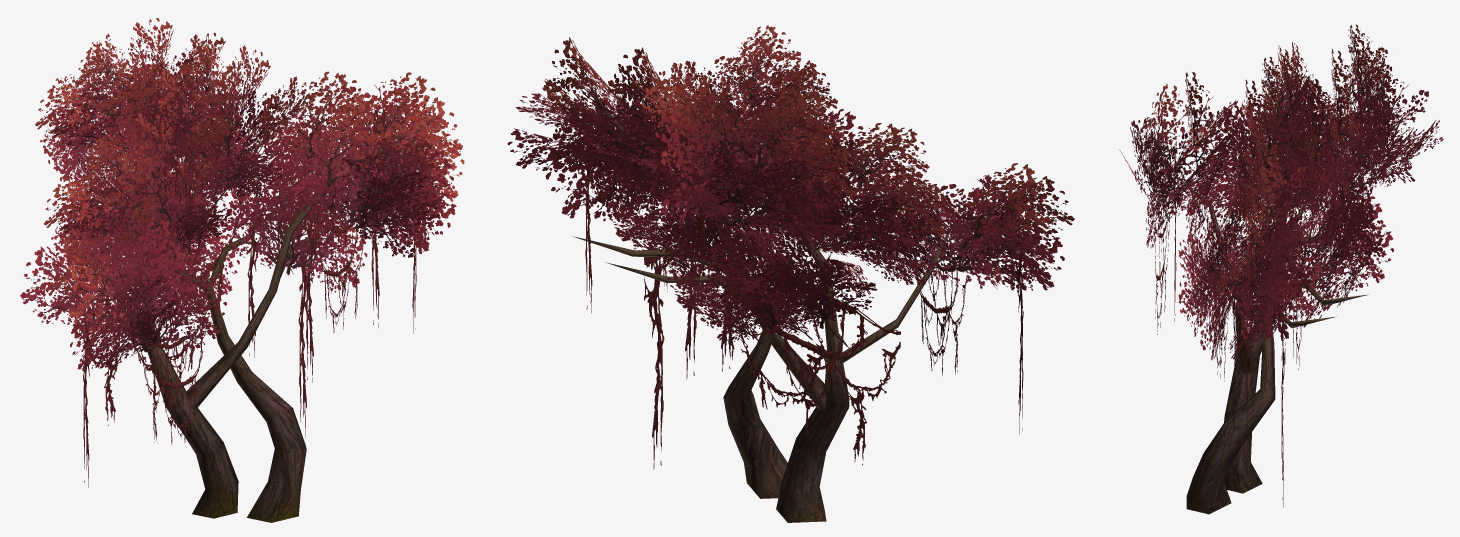
The model's file is yw_huanghunyaosai_dashu01.FBX.
The picture shows the model from 3 angles, left to right: view 1: azimuth 30°, elevation 25°; view 2: azimuth 150°, elevation 25°; view 3: azimuth 270°, elevation 25°; orthographic projection. The views are drawn at different scales.
Visible parts, largest first — view 1: yw_huanghunyaosai_dashu01; view 2: yw_huanghunyaosai_dashu01; view 3: yw_huanghunyaosai_dashu01.
Part boxes in pixels (x1,y1,x2,y2): yw_huanghunyaosai_dashu01: (20,18,464,522); yw_huanghunyaosai_dashu01: (507,25,1074,522); yw_huanghunyaosai_dashu01: (1119,24,1443,514).
Size of the model in its own units: 1063 by 980 by 658.
